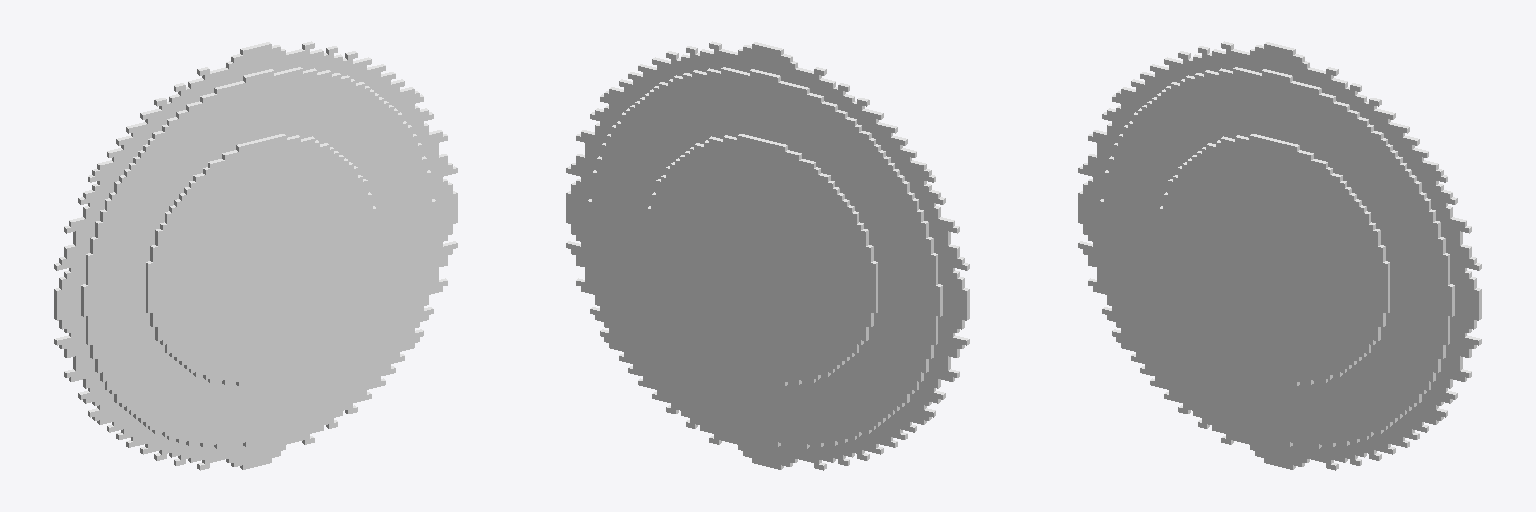
File: EndPortal.obj
The picture shows the model from 3 angles: view 1: azimuth 30°, elevation 25°; view 2: azimuth 150°, elevation 25°; view 3: azimuth 330°, elevation 25°; orthographic projection.
Visible parts, largest first — view 1: object 1; view 2: object 1; view 3: object 1.
Part boxes in pixels (x1,y1,x2,y2): object 1: (54, 41, 457, 470); object 1: (566, 41, 969, 470); object 1: (1078, 41, 1481, 470).
Bounding box in the file's own units: 8.4 × 8.4 × 0.5.